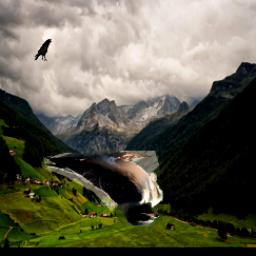Crow: (35, 38, 53, 61)
Swallow: (43, 151, 164, 227)
